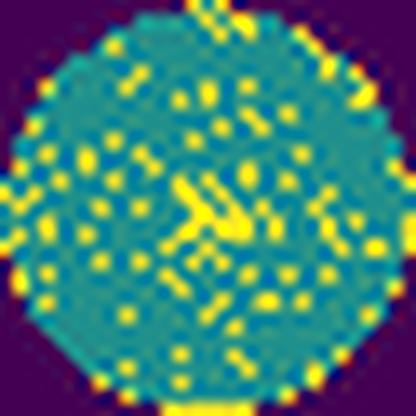Center: (162, 168, 268, 256)
